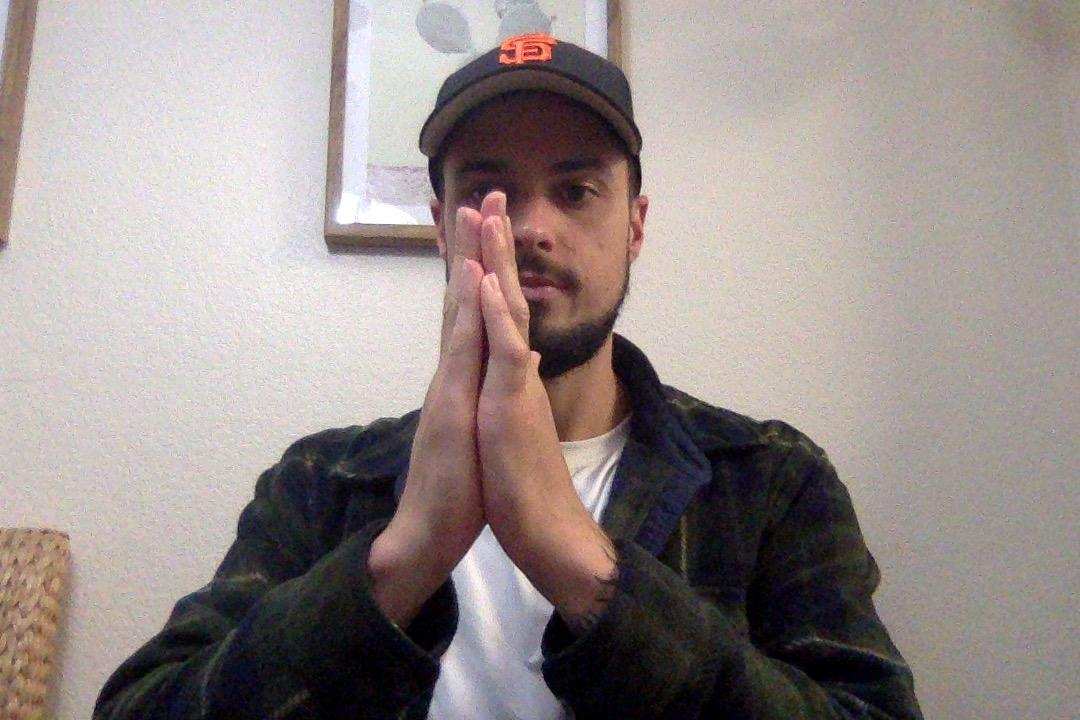Fingers-Crossed: (387, 193, 572, 618)
